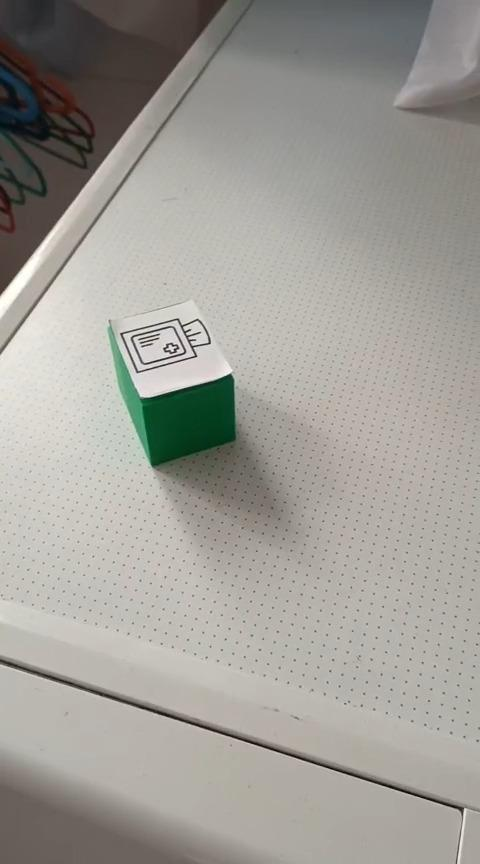Gauze: (106, 297, 236, 467)
